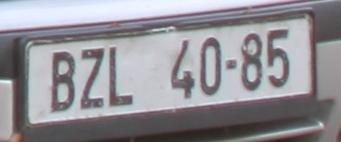-: (225, 58, 237, 72)
0: (199, 36, 222, 98)
4: (169, 39, 197, 99)
5: (267, 29, 290, 88)
8: (241, 33, 263, 93)
B: (50, 50, 76, 113)
L: (108, 46, 135, 106)
Z: (78, 48, 105, 109)
